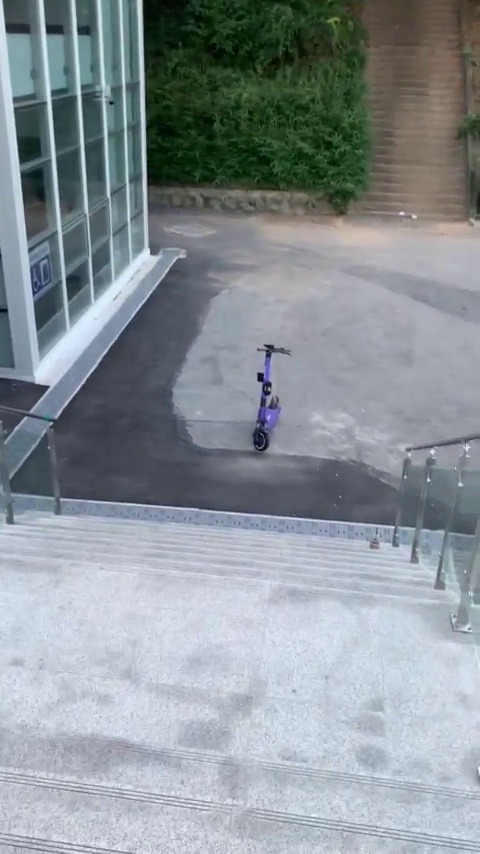beam: (235, 332, 295, 462)
